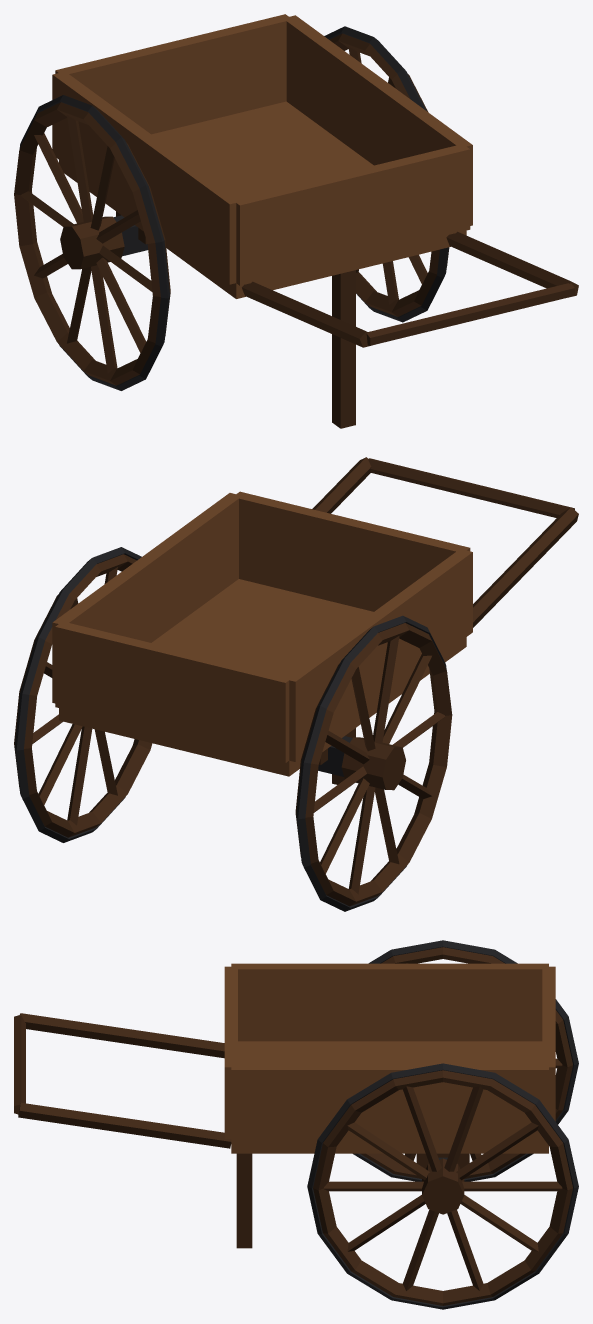
The model's file is SM_Hand_Cart.obj.
The picture shows the model from 3 angles, top to bottom: view 1: azimuth 30°, elevation 25°; view 2: azimuth 150°, elevation 25°; view 3: azimuth 270°, elevation 25°; orthographic projection. The views are drawn at different scales.
Visible parts, largest first — view 1: SM_Hand_Cart; view 2: SM_Hand_Cart; view 3: SM_Hand_Cart.
Part boxes in pixels (x1,y1,x2,y2): SM_Hand_Cart: [14, 14, 578, 428]; SM_Hand_Cart: [14, 457, 578, 911]; SM_Hand_Cart: [14, 940, 578, 1309].
Size of the model in its own units: 1.26 by 1.03 by 2.13.
